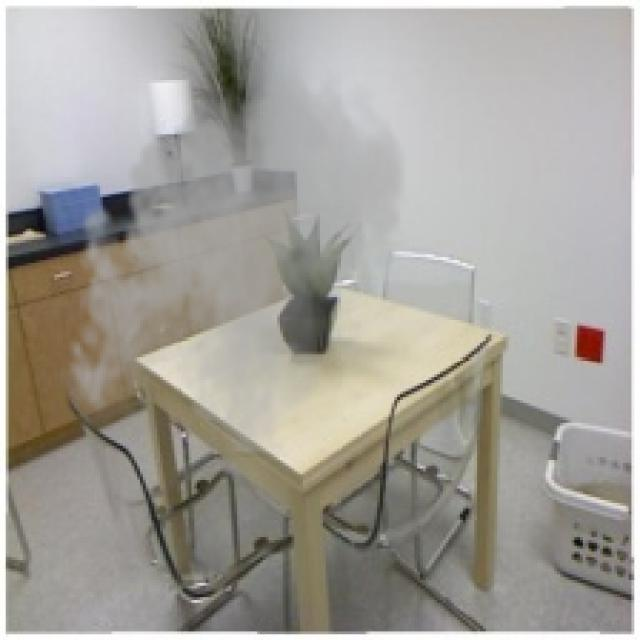smoke: (57, 54, 414, 457)
